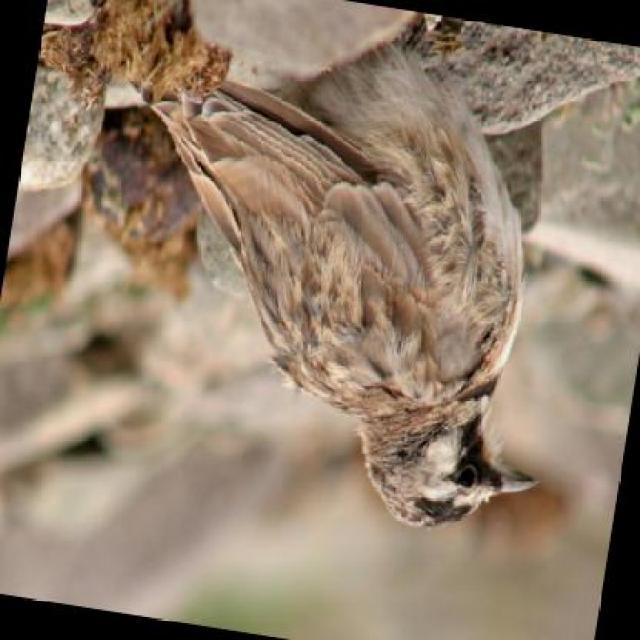Bird: (153, 74, 542, 537)
